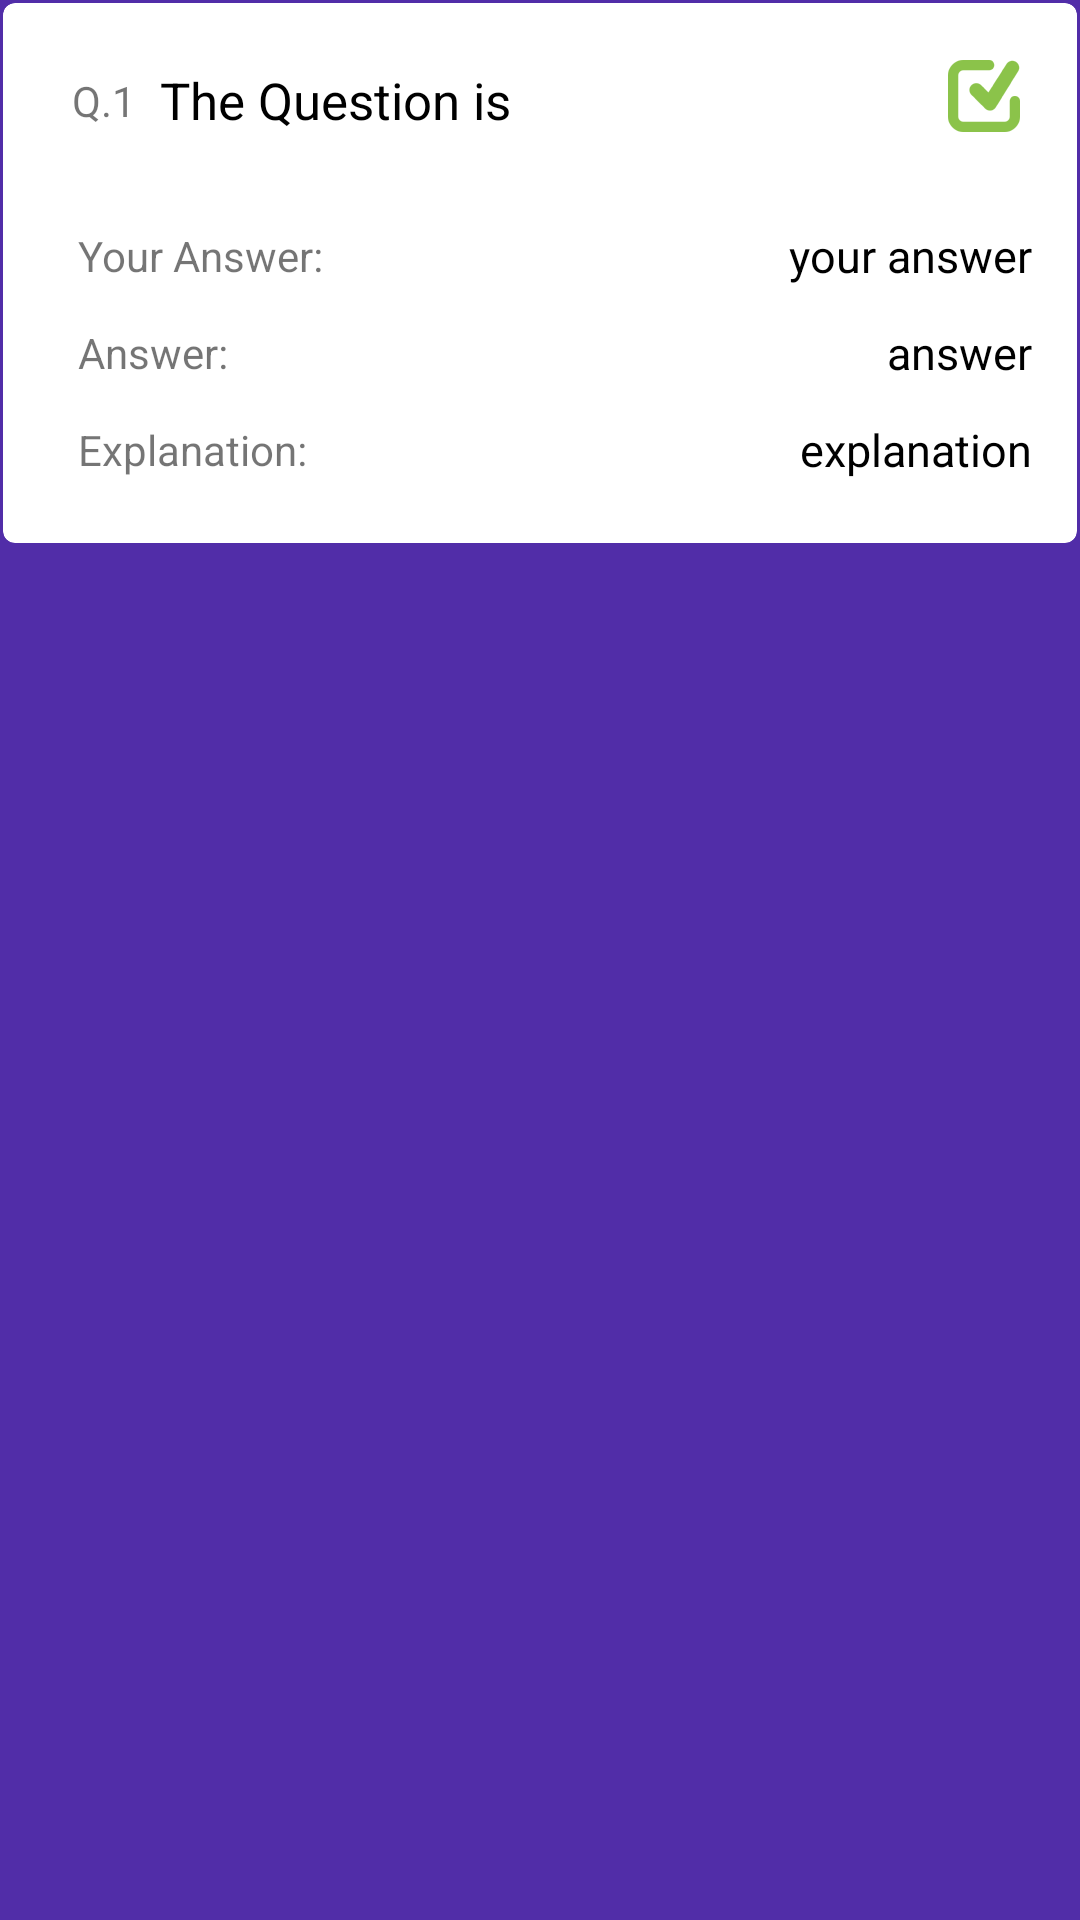

Icon click points for this 1080x1920 phone screenshot, format (x=x, y=y):
check mark: (x=984, y=96)
